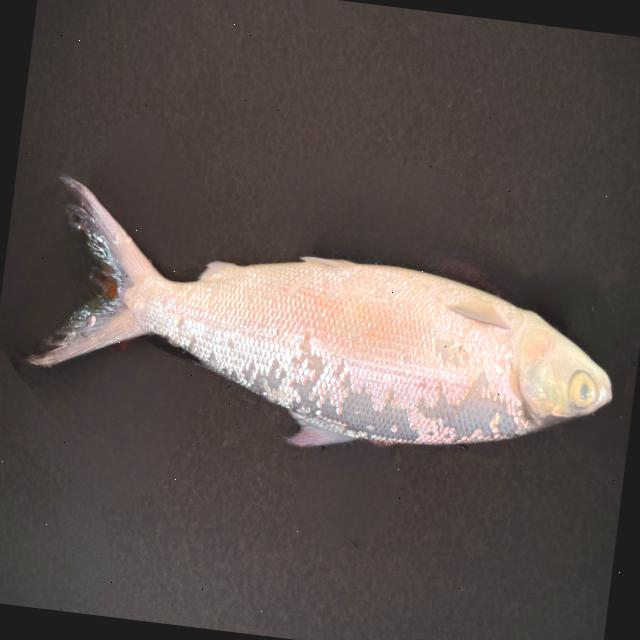960 g: (21, 172, 630, 484)
